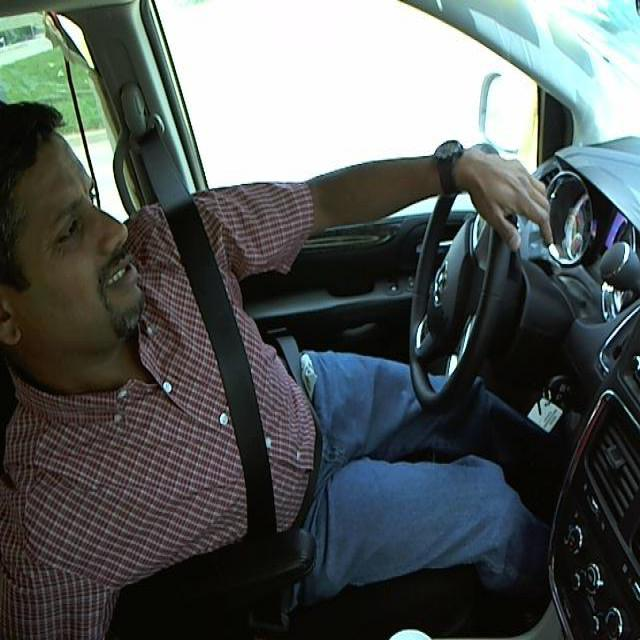seatbelt: (150, 213, 318, 558)
